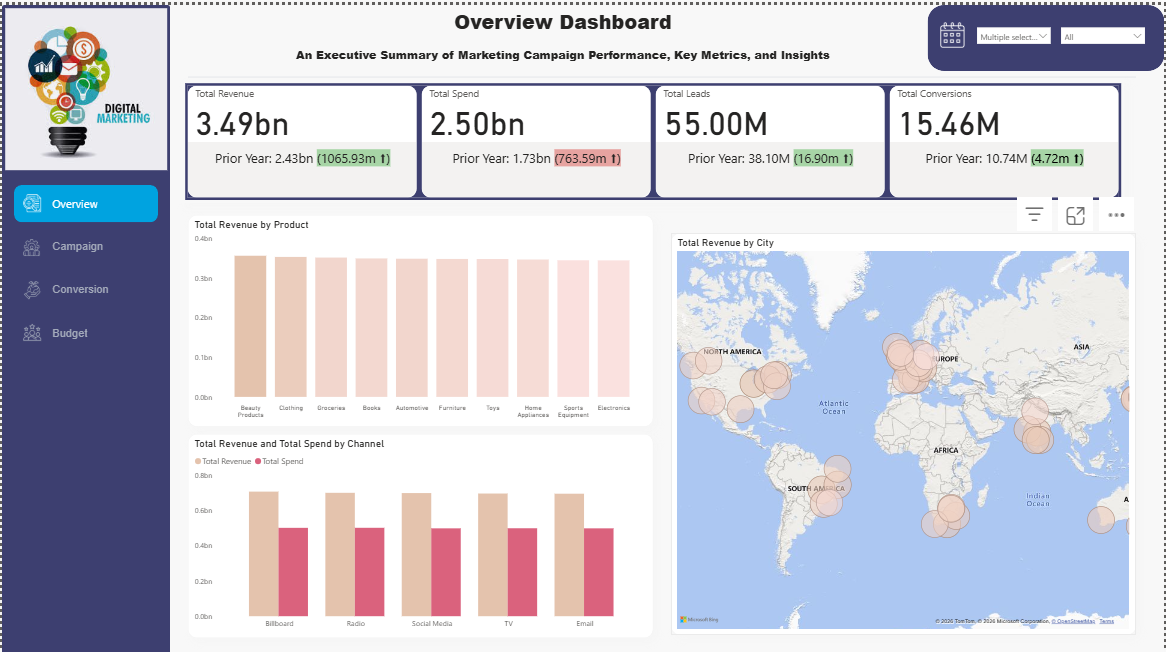

The page's visual inventory and layout, read from the dashboard file:
{"tool":"powerbi","page":{"name":"Overview","canvas":[1938,1080],"ordinal":0},"visuals":[{"type":"shape","box":[1542.5,0,395,110],"z":0,"group":"g1"},{"type":"image","box":[1555.7,9.1,57.9,80.3],"z":1000,"group":"g1"},{"type":"pageNavigator","box":[0,300,280,280],"z":1000,"group":"g2"},{"type":"image","box":[30,310,40,40],"z":1500,"group":"g2"},{"type":"slicer","fields":{"Values":["Date.Year"]},"box":[1613.7,27.5,142.5,62.5],"z":2000,"group":"g1"},{"type":"image","box":[30,385,40,40],"z":2000,"group":"g2"},{"type":"image","box":[30,455,40,40],"z":2500,"group":"g2"},{"type":"slicer","fields":{"Values":["Date.ShortMonthName"]},"box":[1753.7,27.5,160,75],"z":3000,"group":"g1"},{"type":"image","box":[30,525,40,40],"z":3000,"group":"g2"},{"type":"shape","box":[310.9,90,1580,60.2],"z":5000},{"type":"cardVisual","fields":{"Data":["_Measures.Total Revenue (Marketing)","_Measures.Total Spend","_Measures.Total Leads","_Measures.Total Conversions"]},"box":[300,125,1570,205],"z":12000},{"type":"clusteredColumnChart","fields":{"Category":["Marketing Campaigns.Product"],"Y":["_Measures.Total Revenue (Marketing)"]},"box":[310,350,775,352.5],"z":13000},{"type":"clusteredColumnChart","fields":{"Category":["Marketing Campaigns.Channel"],"Y":["_Measures.Total Revenue (Marketing)","_Measures.Total Spend"]},"box":[310,715,775,340],"z":14000},{"type":"map","fields":{"Category":["Marketing Campaigns.City"],"Size":["_Measures.Total Revenue (Marketing)"]},"box":[1115,380,775,670],"z":15000},{"type":"textbox","box":[280,0,1310,120],"z":16000},{"type":"group","id":"g1","title":"Filter","box":[1542.5,0,395,110],"z":18000},{"type":"shape","box":[0,0,280,1080.5],"z":18500},{"type":"group","id":"g2","title":"Sidebar","box":[0,300,280,280],"z":19000},{"type":"image","box":[0,0,280,280],"z":20000}]}

Visuals, with their boxes in screenshot pixels (x1, y1, x2, y2), scaled from the page's 1938x1080 canvas onto the 1166x652 screenshot:
shape: 928, 0, 1165, 66
image: 936, 5, 971, 54
pageNavigator: 0, 181, 168, 350
image: 18, 187, 42, 211
slicer - Date.Year: 971, 17, 1057, 54
image: 18, 232, 42, 257
image: 18, 275, 42, 299
slicer - Date.ShortMonthName: 1055, 17, 1151, 62
image: 18, 317, 42, 341
shape: 187, 54, 1138, 91
cardVisual - _Measures.Total Revenue (Marketing) x _Measures.Total Spend: 180, 75, 1125, 199
clusteredColumnChart - Marketing Campaigns.Product x _Measures.Total Revenue (Marketing): 187, 211, 653, 424
clusteredColumnChart - Marketing Campaigns.Channel x _Measures.Total Revenue (Marketing): 187, 432, 653, 637
map - Marketing Campaigns.City x _Measures.Total Revenue (Marketing): 671, 229, 1137, 634
textbox: 168, 0, 957, 72
"Filter" group: 928, 0, 1165, 66
shape: 0, 0, 168, 651
"Sidebar" group: 0, 181, 168, 350
image: 0, 0, 168, 169
